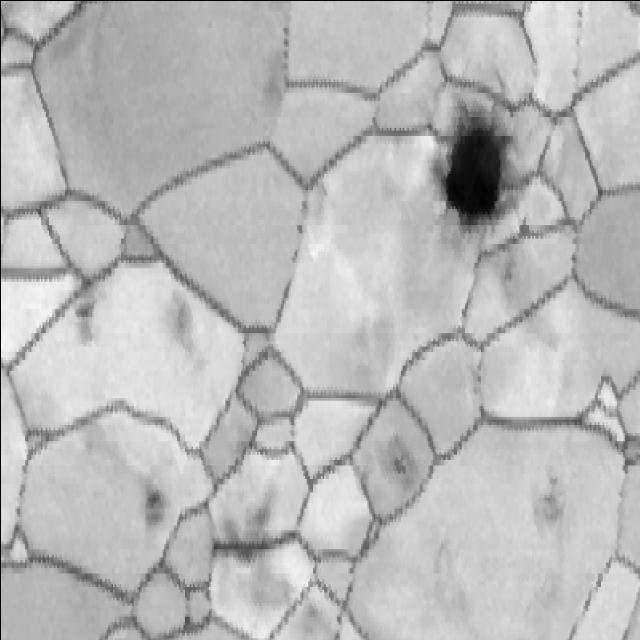good_void: (432, 99, 516, 241), (151, 275, 220, 385), (513, 457, 582, 553), (217, 477, 282, 575), (377, 423, 425, 498), (136, 468, 179, 536), (72, 280, 110, 348), (491, 254, 523, 301)
